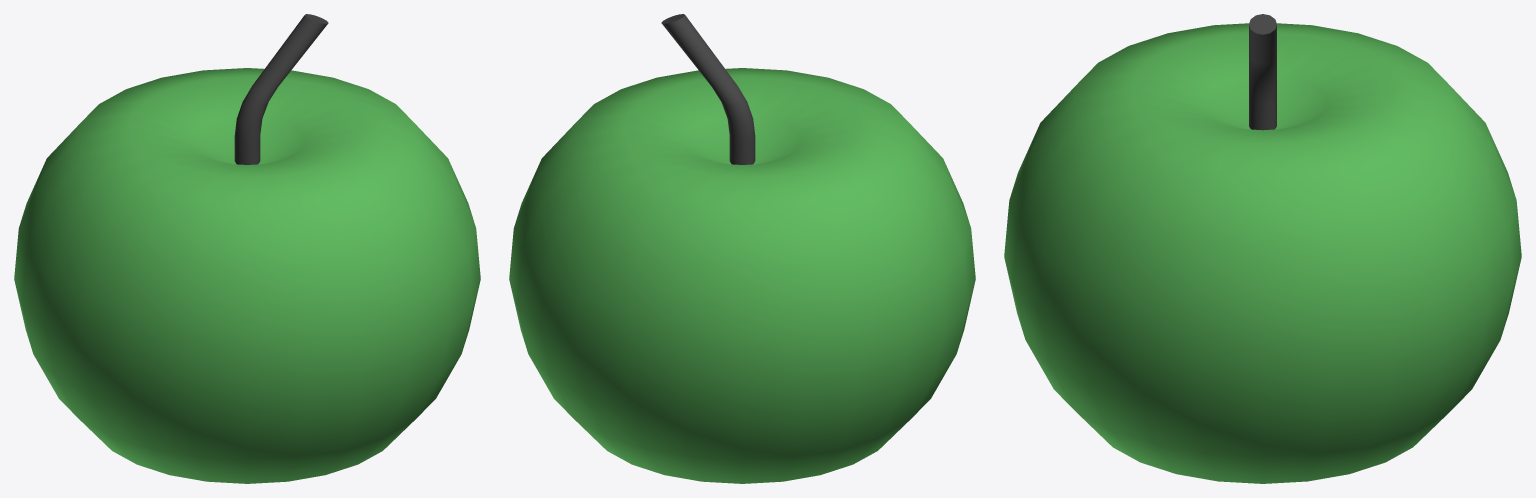
The model's file is apple.fbx.
3 renders of one model, left to right at view 1: azimuth 30°, elevation 25°; view 2: azimuth 150°, elevation 25°; view 3: azimuth 270°, elevation 25°, orthographic. The views are drawn at different scales.
Visible parts, largest first — view 1: apple; view 2: apple; view 3: apple.
Part boxes in pixels (box(x1,y1,x2,y2)): apple: box(14, 14, 480, 483); apple: box(509, 14, 975, 483); apple: box(1004, 14, 1521, 483).
Size of the model in its own units: 9.52 by 9.52 by 8.95.
